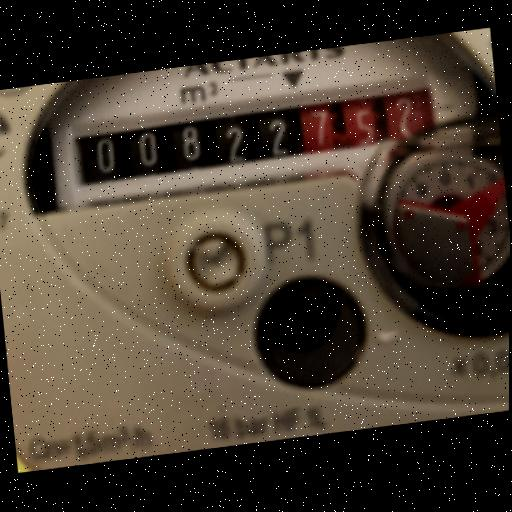0: (131, 127, 167, 176), (90, 133, 122, 182)
2: (380, 88, 434, 145), (216, 115, 251, 166), (260, 109, 294, 159)
5: (341, 98, 378, 149)
7: (300, 103, 338, 154)
8: (175, 120, 208, 169)
border_water_meter_number: (75, 88, 437, 187)
